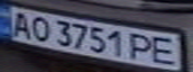1: (106, 28, 130, 57)
3: (51, 18, 75, 47)
5: (87, 25, 109, 55)
7: (66, 20, 90, 52)
A: (3, 8, 36, 38)
E: (148, 34, 184, 66)
O: (27, 14, 54, 43)
P: (127, 30, 157, 62)
